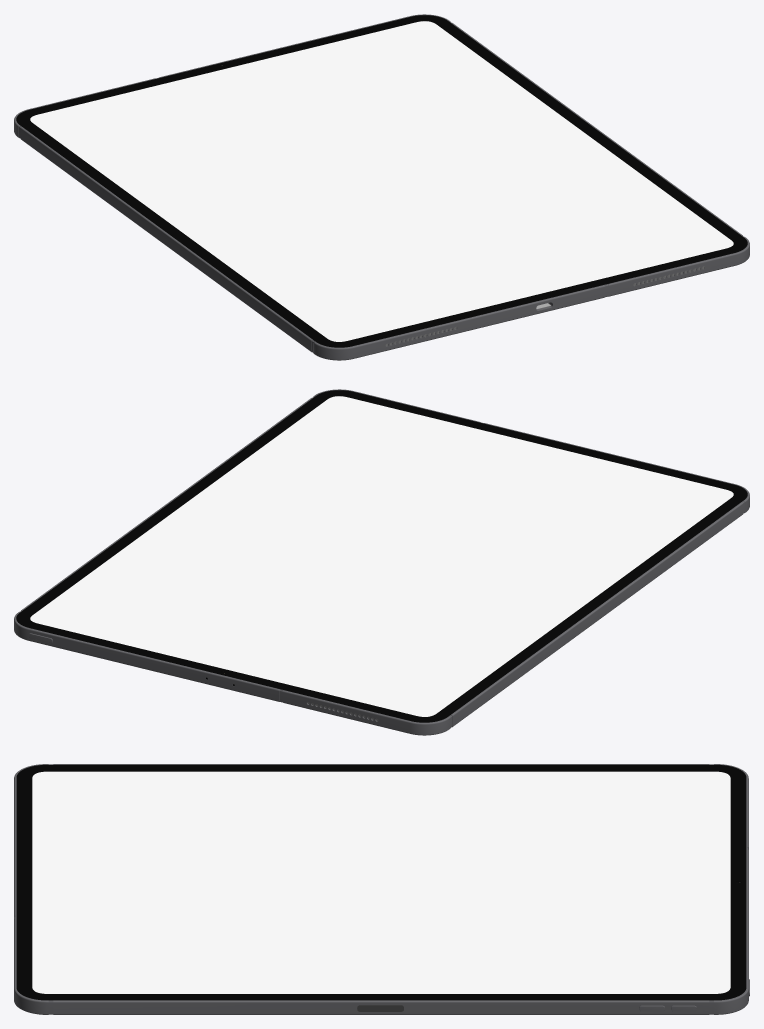
File: ipad.glb
The picture shows the model from 3 angles, top to bottom: view 1: azimuth 30°, elevation 25°; view 2: azimuth 150°, elevation 25°; view 3: azimuth 270°, elevation 25°; orthographic projection. The views are drawn at different scales.
Parts seen in each view (by area): view 1: Line039; view 2: Line039; view 3: Line039.
Part boxes in pixels (bbox=[...]): Line039: bbox=[14, 14, 749, 360]; Line039: bbox=[14, 389, 749, 735]; Line039: bbox=[14, 764, 748, 1014].
Bounding box in the file's own units: 0.2154 × 0.00781 × 0.2811.
Materials: 10 (3 with a texture image).
